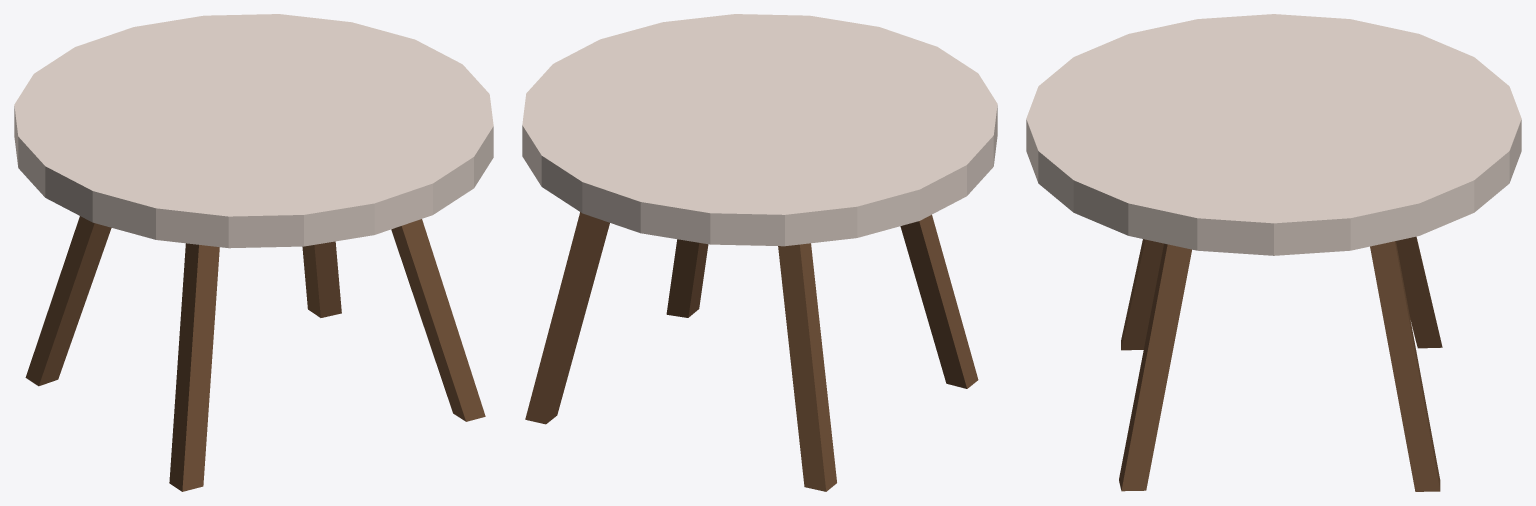
Rendered from Table_19.fbx.
3 views of the same model, side by side, from view 1: azimuth 30°, elevation 25°; view 2: azimuth 150°, elevation 25°; view 3: azimuth 270°, elevation 25° (orthographic). The views are drawn at different scales.
Visible parts, largest first — view 1: Table_19; view 2: Table_19; view 3: Table_19.
Part boxes in pixels (box(x1,y1,x2,y2)): Table_19: box(14, 14, 493, 491); Table_19: box(522, 14, 997, 491); Table_19: box(1026, 14, 1521, 491).
Size of the model in its own units: 128 by 128 by 83.99.
